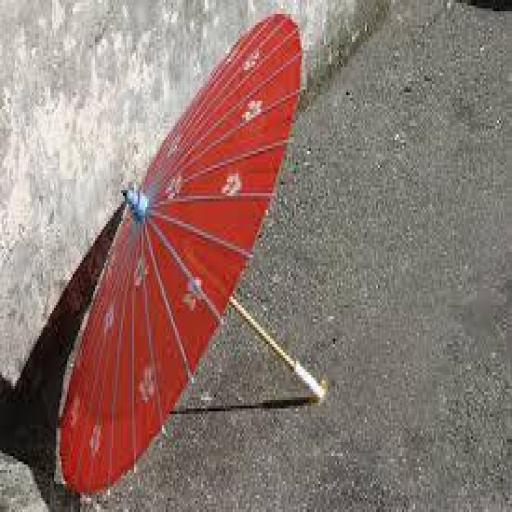guarda_chuva: (56, 11, 328, 495)
